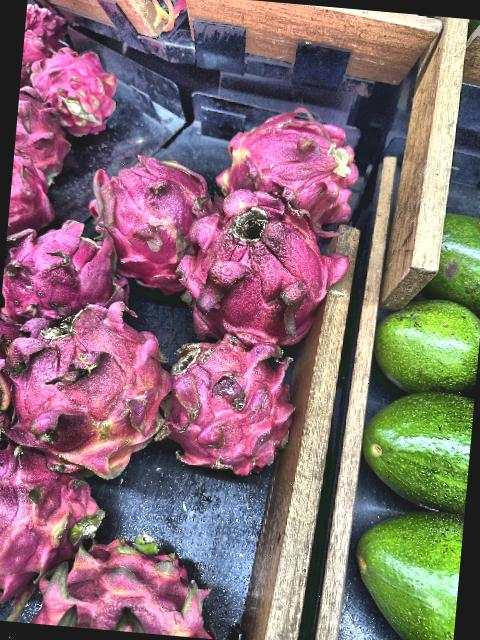buah-naga-matang: (181, 185, 352, 357), (0, 310, 175, 468), (158, 324, 304, 477), (71, 148, 219, 298), (202, 102, 376, 228), (0, 211, 138, 352), (44, 530, 210, 638), (0, 432, 112, 588), (26, 46, 124, 135), (12, 80, 76, 178), (7, 140, 62, 243)
